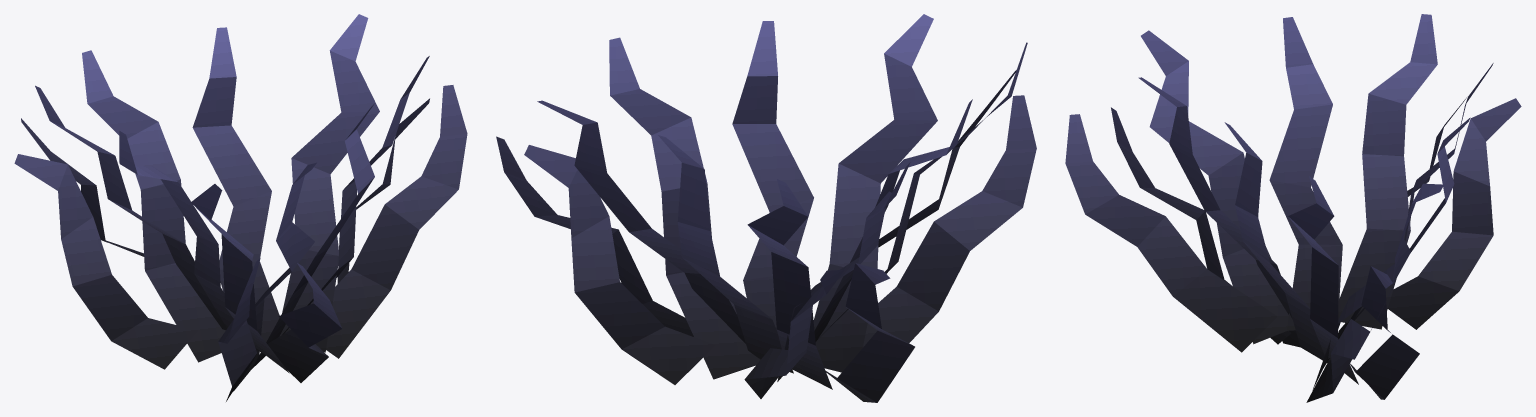
Rendered from grassbare.glb.
3 renders of one model, left to right at view 1: azimuth 30°, elevation 25°; view 2: azimuth 150°, elevation 25°; view 3: azimuth 270°, elevation 25°, orthographic. The views are drawn at different scales.
Parts seen in each view (by area): view 1: Plane.004; view 2: Plane.004; view 3: Plane.004.
Boxes of the visible parts, left/top/right/bottom form: Plane.004: left=14, top=14, right=467, bottom=401; Plane.004: left=496, top=14, right=1036, bottom=402; Plane.004: left=1065, top=14, right=1521, bottom=402.
Size of the model in its own units: 12.71 by 8.7 by 12.78.
Materials: 1 (1 with a texture image).
